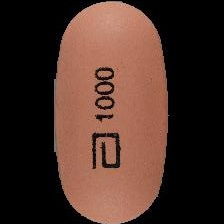68258-6037: (0, 0, 224, 224)
